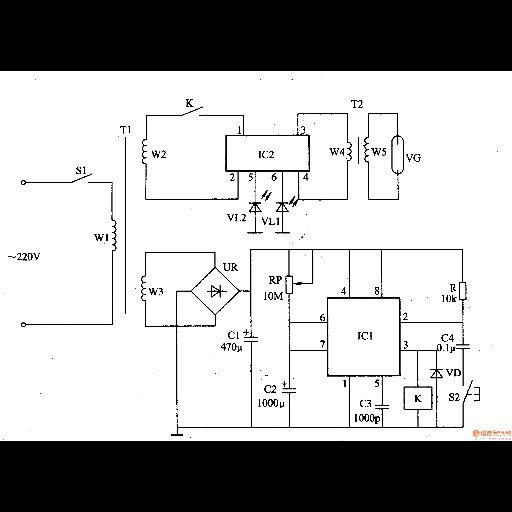capacitor: (373, 402, 393, 412), (455, 341, 471, 351)
firstpolarcapacitor: (242, 327, 261, 345), (280, 379, 298, 396)
firstresistance: (457, 278, 468, 304)
seconddiode: (428, 366, 445, 381)
secondled: (248, 187, 272, 214), (274, 196, 299, 215)
transformer: (109, 131, 147, 308), (346, 132, 369, 169)
